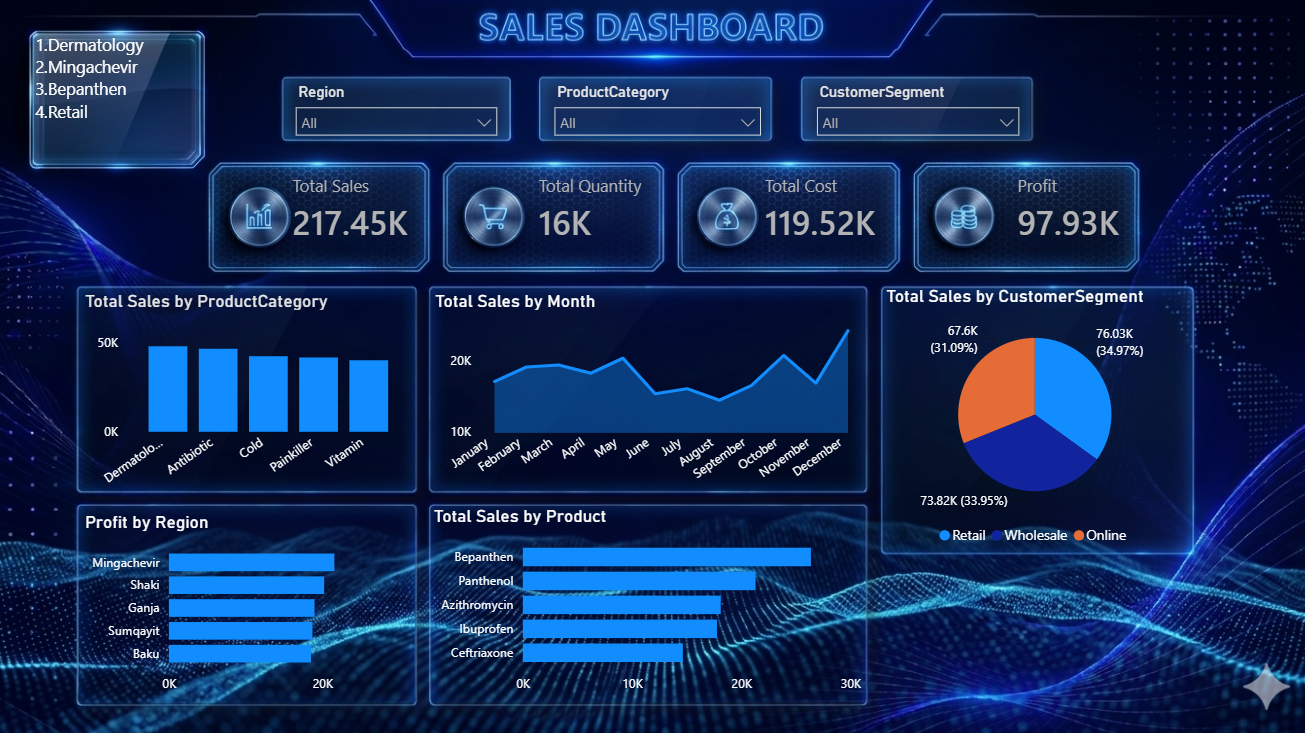

This screenshot's page, from the dashboard's own definition file:
{"tool":"powerbi","page":{"name":"Page 1","canvas":[1280,720],"ordinal":0},"visuals":[{"type":"slicer","fields":{"Values":["Sheet1.Region"]},"box":[279.9,79.6,214.7,59.1],"z":0},{"type":"slicer","fields":{"Values":["Sheet1.CustomerSegment"]},"box":[783,79.6,216,59.1],"z":1000},{"type":"slicer","fields":{"Values":["Sheet1.ProductCategory"]},"box":[529.6,79.6,219.6,59.1],"z":2000},{"type":"cardVisual","fields":{"Data":["Sheet1.Total Sales"]},"box":[258.2,161.7,171.3,89.3],"z":3000},{"type":"cardVisual","fields":{"Data":["Sheet1.Total Quantity"]},"box":[495.8,156.8,168.9,98.9],"z":4000},{"type":"cardVisual","fields":{"Data":["Sheet1.Total Cost"]},"box":[714.2,156.8,194.2,98.9],"z":5000},{"type":"cardVisual","fields":{"Data":["Sheet1.Profit"]},"box":[957.9,152,194.2,108.6],"z":6000},{"type":"clusteredColumnChart","fields":{"Category":["Sheet1.ProductCategory"],"Y":["Sheet1.Total Sales"]},"box":[82,284.7,323.3,199.1],"z":7000},{"type":"barChart","fields":{"Category":["Sheet1.Region"],"Y":["Sheet1.Profit"]},"box":[82,498.3,323.3,184.6],"z":8000},{"type":"lineChart","fields":{"Category":["Sheet1.Date.Variation.Date Hierarchy.Month"],"Y":["Sheet1.Total Sales"]},"box":[419.8,284.7,421,199.1],"z":9000},{"type":"barChart","fields":{"Category":["Sheet1.Product"],"Y":["Sheet1.Total Sales"]},"box":[418.6,492.2,422.3,190.6],"z":10000},{"type":"pieChart","fields":{"Y":["Sheet1.Total Sales"],"Category":["Sheet1.CustomerSegment"]},"box":[855.4,279.9,296.8,260.6],"z":11000},{"type":"textbox","box":[33.8,31.4,172.5,138.7],"z":13000}]}

Visuals, with their boxes in screenshot pixels (x1, y1, x2, y2), scaled from the page's 1280x720 canvas onto the 1305x733 screenshot:
slicer - Sheet1.Region: (x1=285, y1=81, x2=504, y2=141)
slicer - Sheet1.CustomerSegment: (x1=798, y1=81, x2=1019, y2=141)
slicer - Sheet1.ProductCategory: (x1=540, y1=81, x2=764, y2=141)
cardVisual - Sheet1.Total Sales: (x1=263, y1=165, x2=438, y2=256)
cardVisual - Sheet1.Total Quantity: (x1=505, y1=160, x2=678, y2=260)
cardVisual - Sheet1.Total Cost: (x1=728, y1=160, x2=926, y2=260)
cardVisual - Sheet1.Profit: (x1=977, y1=155, x2=1175, y2=265)
clusteredColumnChart - Sheet1.ProductCategory x Sheet1.Total Sales: (x1=84, y1=290, x2=413, y2=493)
barChart - Sheet1.Region x Sheet1.Profit: (x1=84, y1=507, x2=413, y2=695)
lineChart - Sheet1.Date.Variation.Date Hierarchy.Month x Sheet1.Total Sales: (x1=428, y1=290, x2=857, y2=493)
barChart - Sheet1.Product x Sheet1.Total Sales: (x1=427, y1=501, x2=857, y2=695)
pieChart - Sheet1.Total Sales x Sheet1.CustomerSegment: (x1=872, y1=285, x2=1175, y2=550)
textbox: (x1=34, y1=32, x2=210, y2=173)
